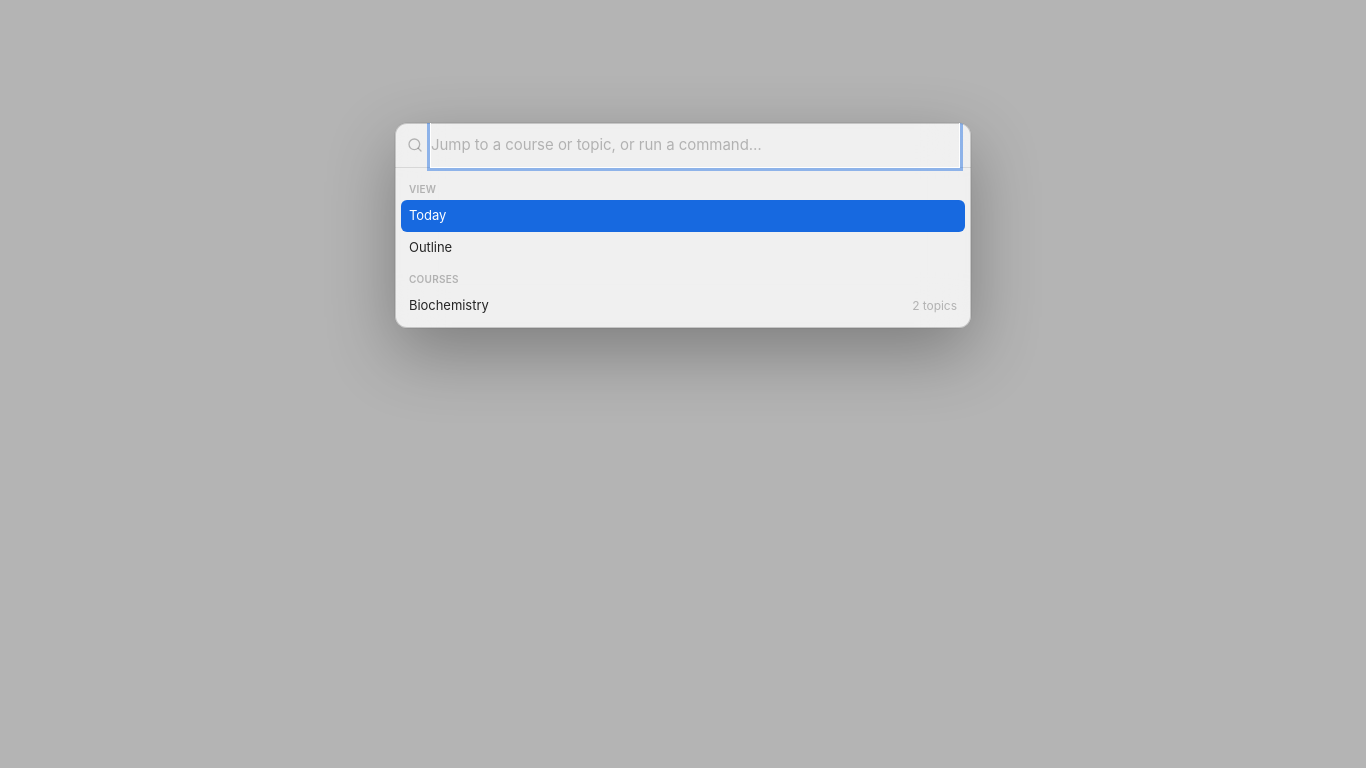
CommandPalette › filters as you type and re-highlights the top result
The width and height of the screenshot is (1366, 768).
Type "gly" into the dropdown at point(695, 145), box [431,123,959,167]
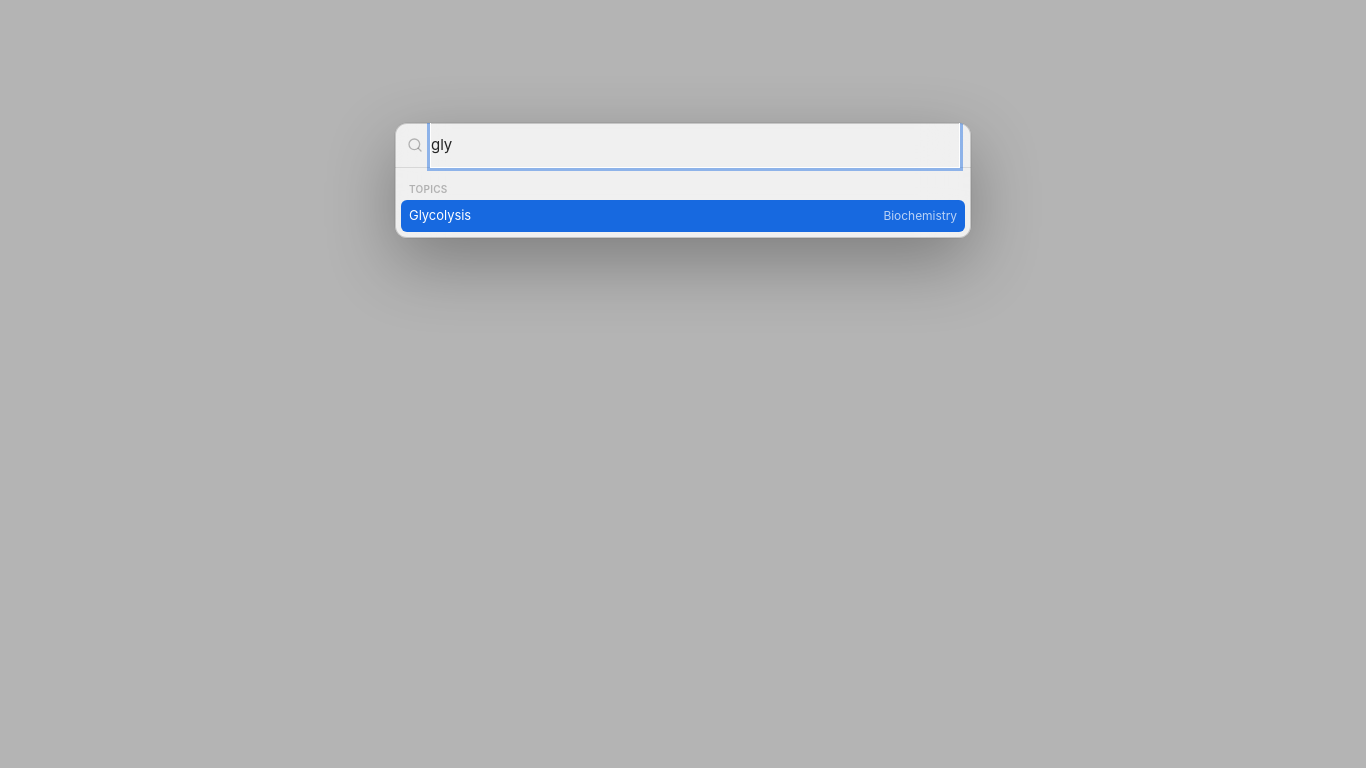
Check: the number of options is 1, box [401,200,965,232]
Check: the option shows "Glycolysis", box [401,200,965,232]
